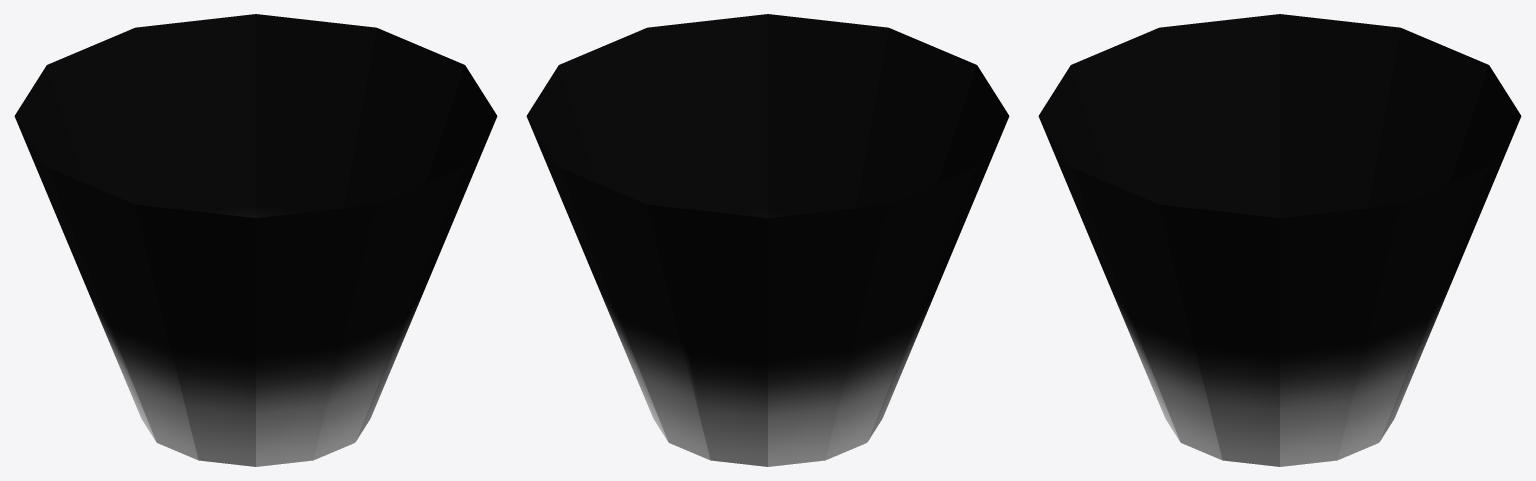
File: volume-rays02.fbx
3 views of the same model, side by side, from view 1: azimuth 30°, elevation 25°; view 2: azimuth 150°, elevation 25°; view 3: azimuth 270°, elevation 25° (orthographic).
Visible parts, largest first — view 1: Xrays01; view 2: Xrays01; view 3: Xrays01.
Part boxes in pixels (bbox=[...]): Xrays01: bbox=[14, 14, 497, 466]; Xrays01: bbox=[526, 14, 1009, 466]; Xrays01: bbox=[1038, 14, 1521, 466].
Size of the model in its own units: 289 by 200 by 289.
